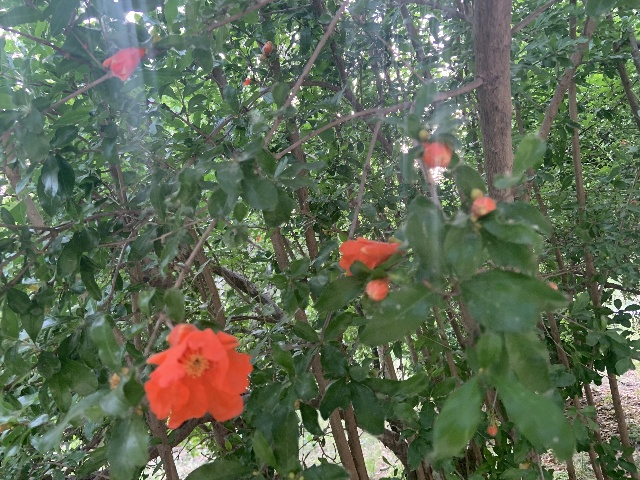bud: (422, 141, 452, 168), (365, 278, 389, 300), (471, 197, 496, 217), (486, 423, 496, 435), (263, 43, 272, 55)
flower: (143, 323, 253, 429), (338, 236, 402, 276), (102, 46, 145, 81), (243, 77, 251, 85)
